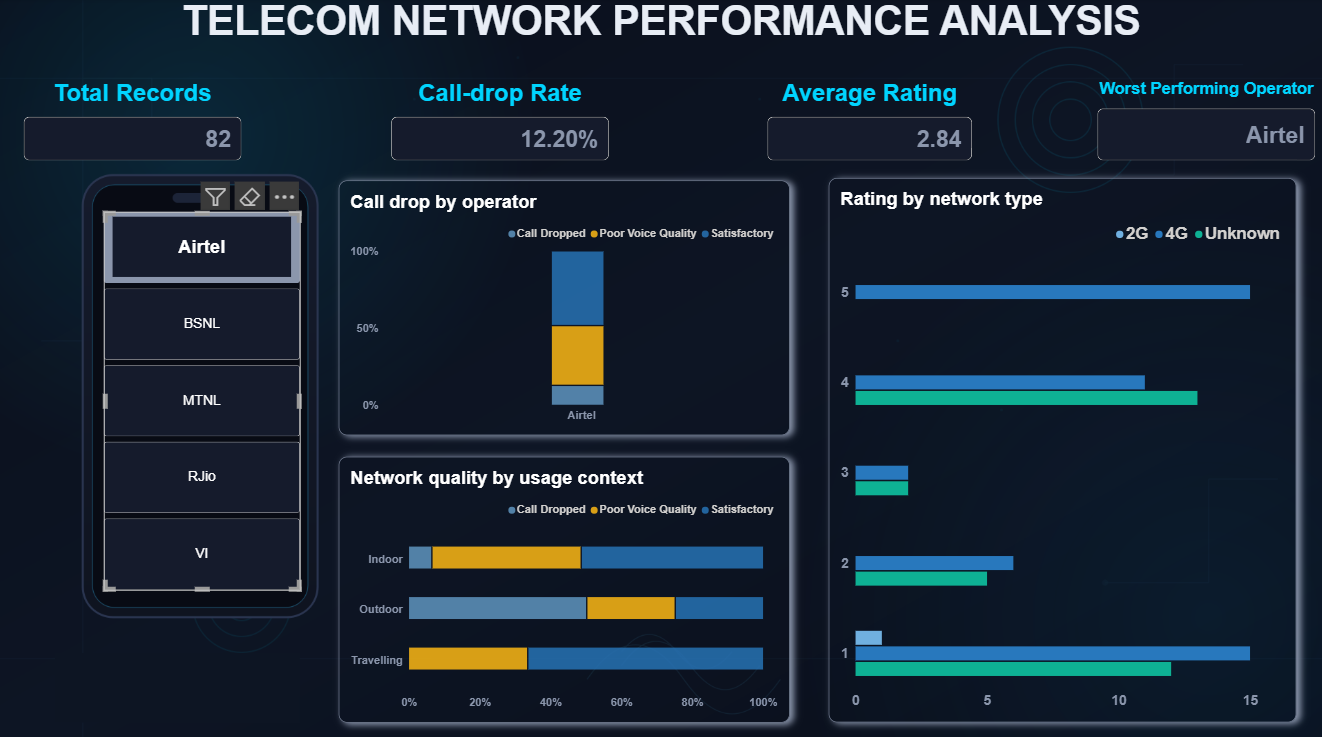

Layout of this report page (visuals, bound fields, positions):
{"tool":"powerbi","page":{"name":"Page 1","canvas":[1920,1080],"ordinal":0},"visuals":[{"type":"textbox","box":[10.3,0,1893.7,98.8],"z":0},{"type":"cardVisual","title":"Total Records","fields":{"Data":["Telecom Network.Total Records"]},"box":[35,117.3,315,118],"z":1000},{"type":"cardVisual","title":"Call-drop Rate","fields":{"Data":["Telecom Network.Call Drop Rate"]},"box":[566,117.3,315,118],"z":2000},{"type":"cardVisual","title":"Average Rating","fields":{"Data":["Telecom Network.Average Rating"]},"box":[1111.5,117.3,296,118],"z":3000},{"type":"cardVisual","title":"Worst Performing Operator","fields":{"Data":["Telecom Network.Worst Operator Name"]},"box":[1589,117.3,315,118],"z":4000},{"type":"hundredPercentStackedColumnChart","title":"Call drop by operator","fields":{"Category":["Telecom Network.operator"],"Y":["Telecom Network.Total Records"],"Series":["Telecom Network.calldrop_category"]},"box":[489.9,263.5,652.5,368.4],"z":5000},{"type":"clusteredBarChart","title":"Rating by network type","fields":{"Category":["Telecom Network.rating"],"Y":["Telecom Network.Total Records"],"Series":["Telecom Network.network_type"]},"box":[1200,261.4,677.2,788.3],"z":5002},{"type":"hundredPercentStackedBarChart","title":"Network quality by usage context","fields":{"Category":["Telecom Network.inout_travelling"],"Y":["Telecom Network.Total Records"],"Series":["Telecom Network.calldrop_category"]},"box":[489.9,664.8,652.5,384.9],"z":5003},{"type":"advancedSlicerVisual","fields":{"Values":["Telecom Network.operator"]},"box":[150.3,308.7,284,549.6],"z":5004},{"type":"textbox","box":[80.3,948.9,354,100.9],"z":5005}]}

Visuals, with their boxes in screenshot pixels (x1, y1, x2, y2), scaled from the page's 1920x1080 canvas onto the 1322x737 screenshot:
textbox: (7, 0, 1311, 67)
"Total Records" cardVisual: (24, 80, 241, 161)
"Call-drop Rate" cardVisual: (390, 80, 607, 161)
"Average Rating" cardVisual: (765, 80, 969, 161)
"Worst Performing Operator" cardVisual: (1094, 80, 1311, 161)
"Call drop by operator" hundredPercentStackedColumnChart: (337, 180, 787, 431)
"Rating by network type" clusteredBarChart: (826, 178, 1293, 716)
"Network quality by usage context" hundredPercentStackedBarChart: (337, 454, 787, 716)
advancedSlicerVisual - Telecom Network.operator: (103, 211, 299, 586)
textbox: (55, 648, 299, 716)
